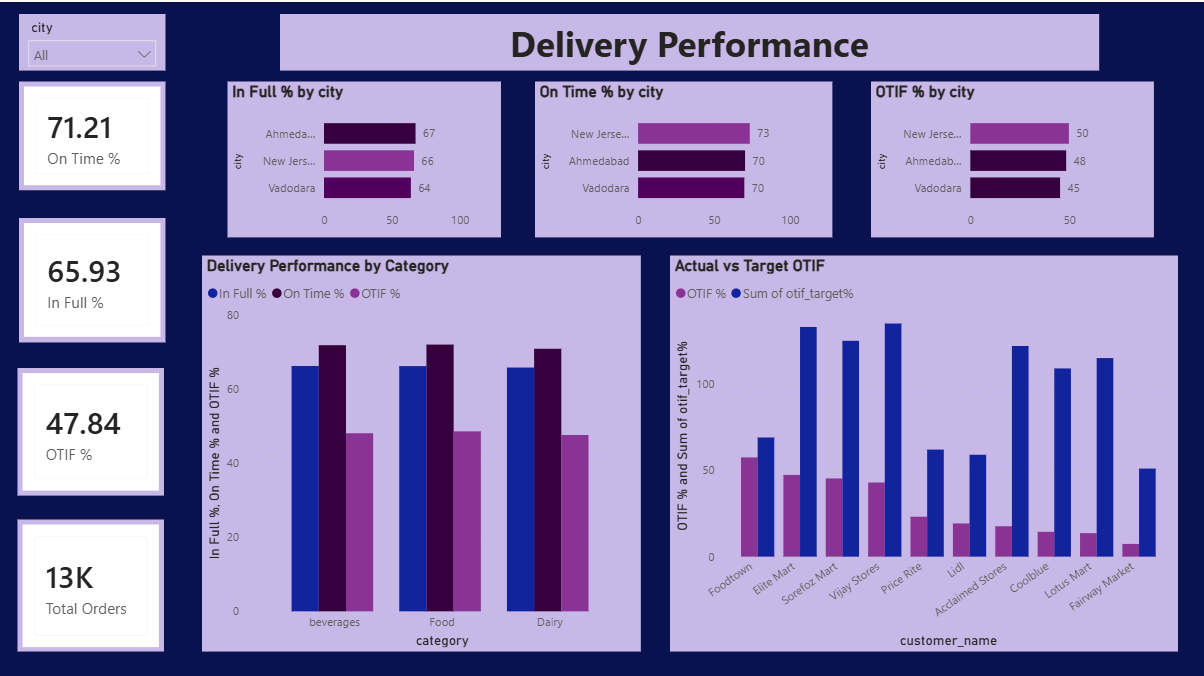

The page's visual inventory and layout, read from the dashboard file:
{"tool":"powerbi","page":{"name":"Page 4","canvas":[1280,720],"ordinal":3},"visuals":[{"type":"textbox","box":[298.3,13.3,868.3,60],"z":0},{"type":"cardVisual","fields":{"Data":["dim_customers.On Time %"]},"box":[21.7,85,155,115],"z":1000},{"type":"cardVisual","fields":{"Data":["dim_customers.In Full %"]},"box":[21.7,228.3,155,131.7],"z":2000},{"type":"cardVisual","fields":{"Data":["dim_customers.OTIF %"]},"box":[20,388.3,155,135],"z":3000},{"type":"cardVisual","fields":{"Data":["dim_customers.Total Orders"]},"box":[20,548.3,155,140],"z":4000},{"type":"clusteredBarChart","fields":{"Category":["dim_customers.city"],"Y":["dim_customers.On Time %"]},"box":[570,85,315,165],"z":5000},{"type":"clusteredBarChart","fields":{"Category":["dim_customers.city"],"Y":["dim_customers.In Full %"]},"box":[243.3,85,290,165],"z":6000},{"type":"clusteredBarChart","fields":{"Y":["dim_customers.OTIF %"],"Category":["dim_customers.city"]},"box":[925,85,300,165],"z":7000},{"type":"clusteredColumnChart","title":"Delivery Performance by Category","fields":{"Category":["dim_products.category"],"Y":["dim_customers.In Full %","dim_customers.On Time %","dim_customers.OTIF %"]},"box":[216.7,268.3,465,420],"z":8000},{"type":"clusteredColumnChart","title":"Actual vs Target OTIF","fields":{"Category":["dim_customers.customer_name"],"Y":["dim_customers.OTIF %","Sum(dim_targets_orders.otif_target%)"]},"box":[713.3,268.3,538.3,420],"z":9000},{"type":"slicer","fields":{"Values":["dim_customers.city"]},"box":[21.7,13.3,155,60],"z":10000}]}

Visuals, with their boxes in screenshot pixels (x1, y1, x2, y2), scaled from the page's 1280x720 canvas onto the 1204x676 screenshot:
textbox: region(281, 12, 1097, 69)
cardVisual - dim_customers.On Time %: region(20, 80, 166, 188)
cardVisual - dim_customers.In Full %: region(20, 214, 166, 338)
cardVisual - dim_customers.OTIF %: region(19, 365, 165, 491)
cardVisual - dim_customers.Total Orders: region(19, 515, 165, 646)
clusteredBarChart - dim_customers.city x dim_customers.On Time %: region(536, 80, 832, 235)
clusteredBarChart - dim_customers.city x dim_customers.In Full %: region(229, 80, 502, 235)
clusteredBarChart - dim_customers.OTIF % x dim_customers.city: region(870, 80, 1152, 235)
"Delivery Performance by Category" clusteredColumnChart: region(204, 252, 641, 646)
"Actual vs Target OTIF" clusteredColumnChart: region(671, 252, 1177, 646)
slicer - dim_customers.city: region(20, 12, 166, 69)
